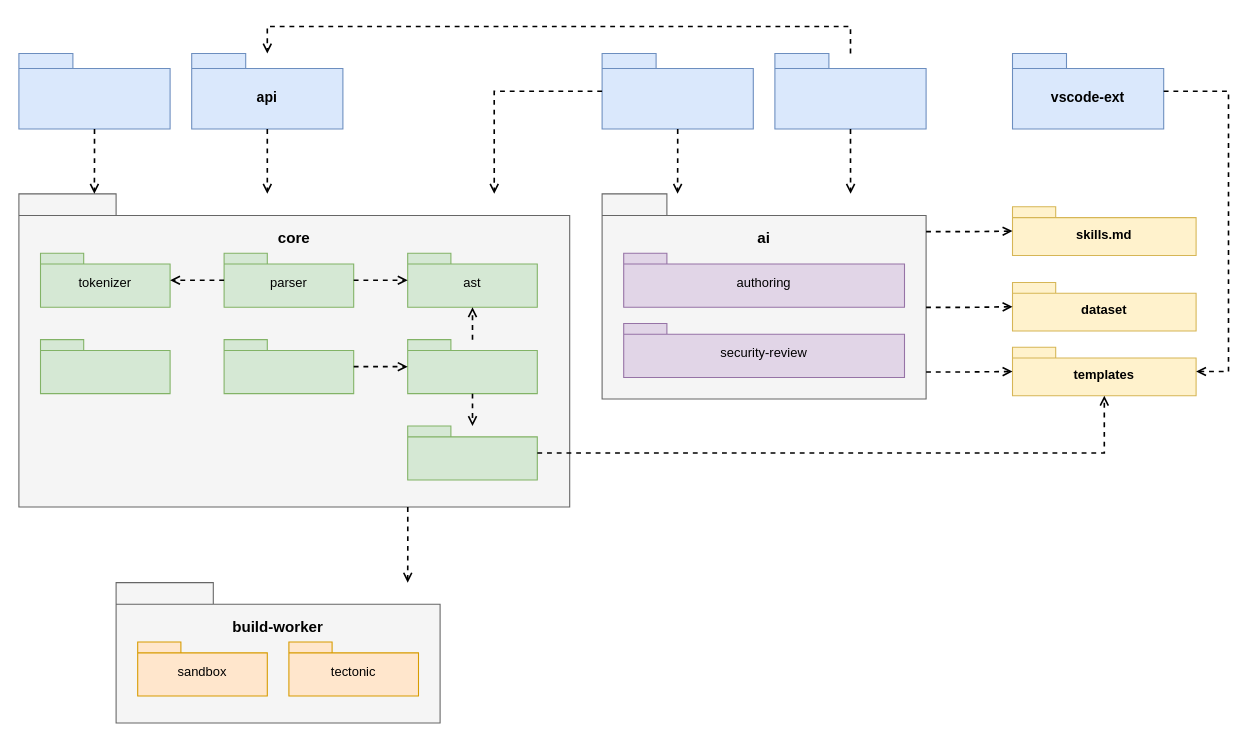
This 1257x743 diagram has some shape labels left out. Each missing label, with the centre of its shape:
binder: the point at 472,366
cli: the point at 94,90
codegen: the point at 288,366
loader: the point at 472,452
mcp-server: the point at 677,90
metadata: the point at 104,366
web-apps: the point at 850,90
